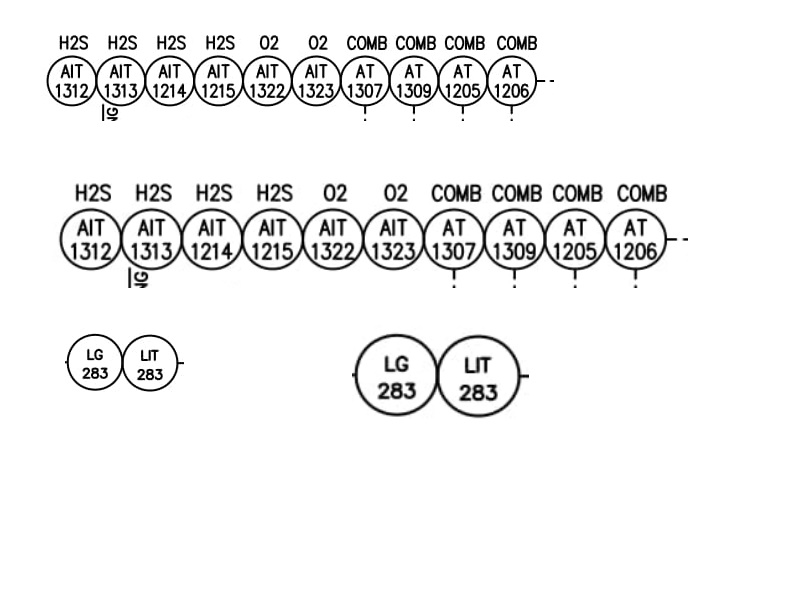Inline Instrument: (350, 332, 441, 418), (433, 333, 524, 419), (56, 204, 124, 273), (120, 203, 184, 271), (180, 204, 244, 272), (240, 203, 304, 271), (300, 203, 364, 271), (362, 203, 426, 271), (422, 203, 486, 271), (482, 203, 546, 271), (543, 202, 607, 270), (603, 203, 667, 271), (65, 330, 123, 394), (121, 332, 179, 396), (45, 52, 97, 107), (95, 51, 147, 106), (143, 52, 195, 107), (193, 52, 245, 107), (241, 51, 293, 106), (289, 52, 341, 107), (339, 51, 391, 106), (388, 51, 440, 106), (438, 51, 490, 106), (486, 51, 538, 106)
